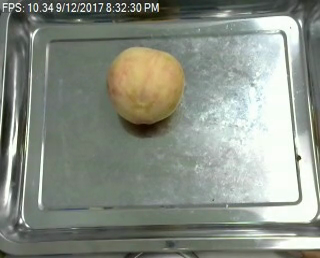Peach: (106, 45, 185, 124)
